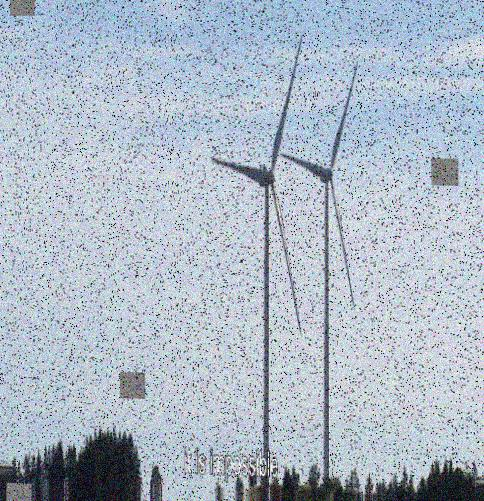wind turbine: (208, 34, 307, 486), (280, 59, 361, 486)
